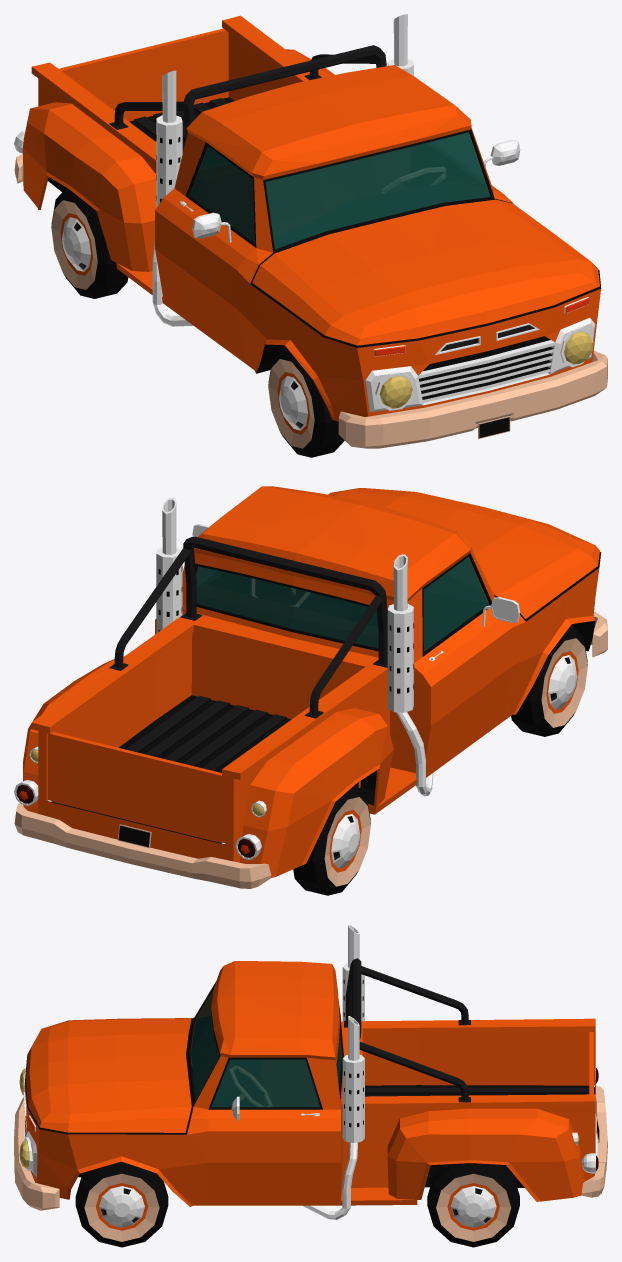
File: VintagePickup_03.FBX
3 renders of one model, top to bottom at view 1: azimuth 30°, elevation 25°; view 2: azimuth 150°, elevation 25°; view 3: azimuth 270°, elevation 25°, orthographic. The views are drawn at different scales.
Visible parts, largest first — view 1: Pickup_03, interior, bumper_f, wheel_b_r, wheel_f_r, exhaust_r, headLights, lights, exhaust_l, mirror_r, mirror_l; view 2: Pickup_03, interior, bumper_b, wheel_b_r, wheel_f_r, exhaust_r, exhaust_l, lights, mirror_r, bumper_f, licensePlate_b; view 3: Pickup_03, wheel_b_l, wheel_f_l, interior, exhaust_l, bumper_f, bumper_b, exhaust_r, lights, steeringWheel.
Boxes of the visible parts, x1,y1,x2,y2 form: Pickup_03: [23, 15, 601, 421]; interior: [190, 132, 489, 249]; bumper_f: [338, 350, 607, 448]; wheel_b_r: [51, 188, 128, 298]; wheel_f_r: [268, 346, 344, 457]; exhaust_r: [152, 70, 192, 326]; headLights: [379, 331, 593, 408]; lights: [14, 130, 593, 410]; exhaust_l: [387, 14, 413, 75]; mirror_r: [192, 212, 231, 242]; mirror_l: [484, 139, 520, 167]; Pickup_03: [23, 486, 601, 877]; interior: [196, 557, 488, 651]; bumper_b: [14, 803, 271, 888]; wheel_b_r: [293, 785, 370, 895]; wheel_f_r: [511, 625, 587, 736]; exhaust_r: [387, 554, 433, 796]; exhaust_l: [156, 497, 182, 633]; lights: [14, 746, 266, 860]; mirror_r: [482, 597, 520, 626]; bumper_f: [591, 611, 607, 657]; licensePlate_b: [118, 824, 151, 848]; Pickup_03: [23, 958, 595, 1206]; wheel_b_l: [427, 1163, 519, 1247]; wheel_f_l: [75, 1161, 168, 1247]; interior: [191, 992, 340, 1106]; exhaust_l: [302, 1016, 364, 1219]; bumper_f: [14, 1097, 59, 1210]; bumper_b: [581, 1085, 607, 1197]; exhaust_r: [342, 924, 364, 1021]; lights: [24, 1066, 595, 1173]; steeringWheel: [230, 1066, 271, 1106].
Size of the model in its own units: 24.24 by 19.73 by 47.17.
